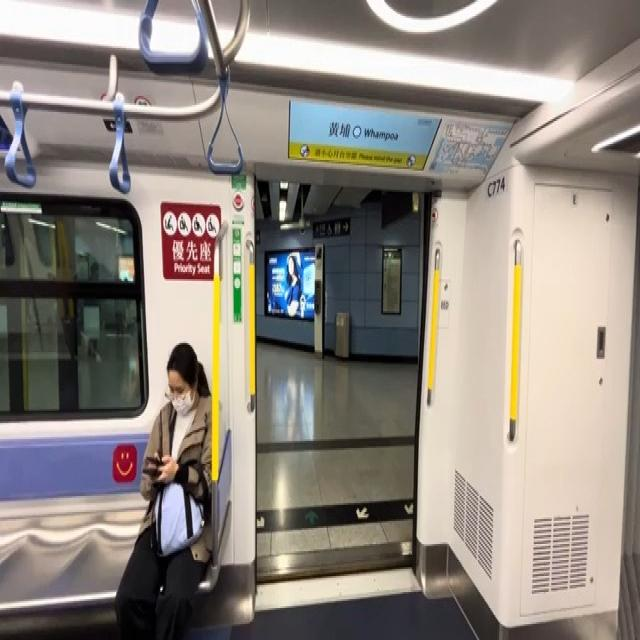bus-door: (252, 162, 432, 588)
